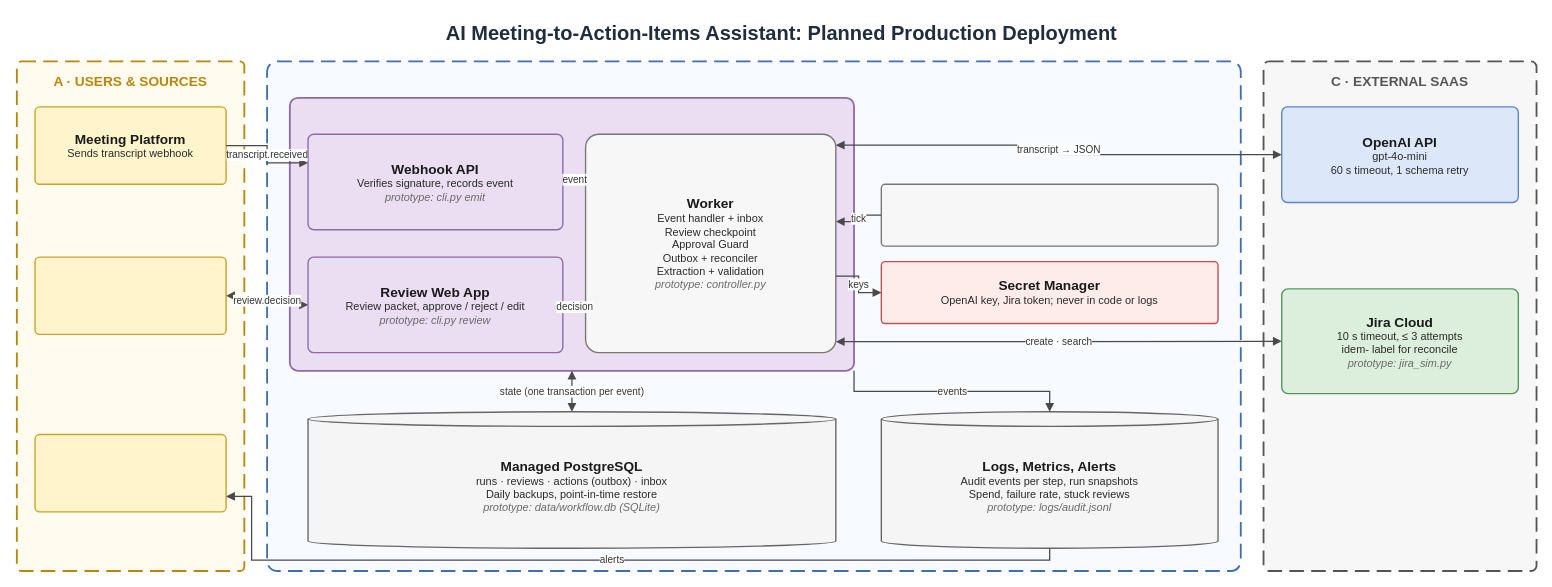
Image size: 1552x587. Some labels were removed from this diagram. The shapes that lost their labels are listed below. From the top down, each one's box as (x1, y1, x2, y2) in pixels, then its label:
(288, 96, 854, 371): One container image, autoscaled 1–3 instances
(880, 183, 1218, 246): Scheduler timer.tick every 5 min prototype: cli.py tick
(34, 256, 226, 335): Reviewer Organizer, then project lead Browser, company SSO
(266, 60, 1241, 571): B · OUR CLOUD PROJECT (one region, planned)
(34, 433, 226, 512): On-call Operator Paged on alerts
